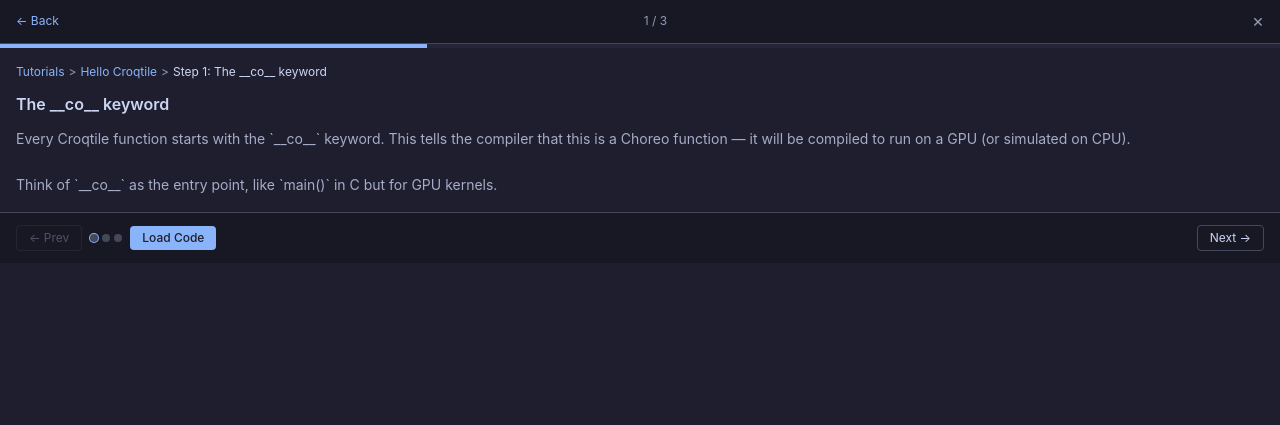
it: TutorialPanel › breadcrumb tutorial title navigates to step 1
Click the button "Next →": (1230,238) x1=1197 y1=225 x2=1264 y2=251
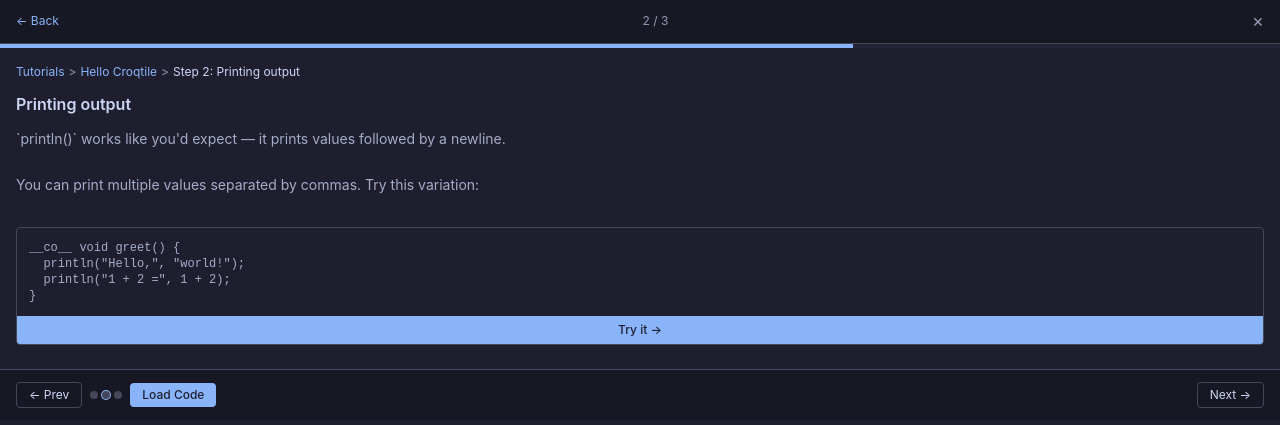
Click the button "Hello Croqtile": (119,72) x1=80 y1=64 x2=157 y2=80
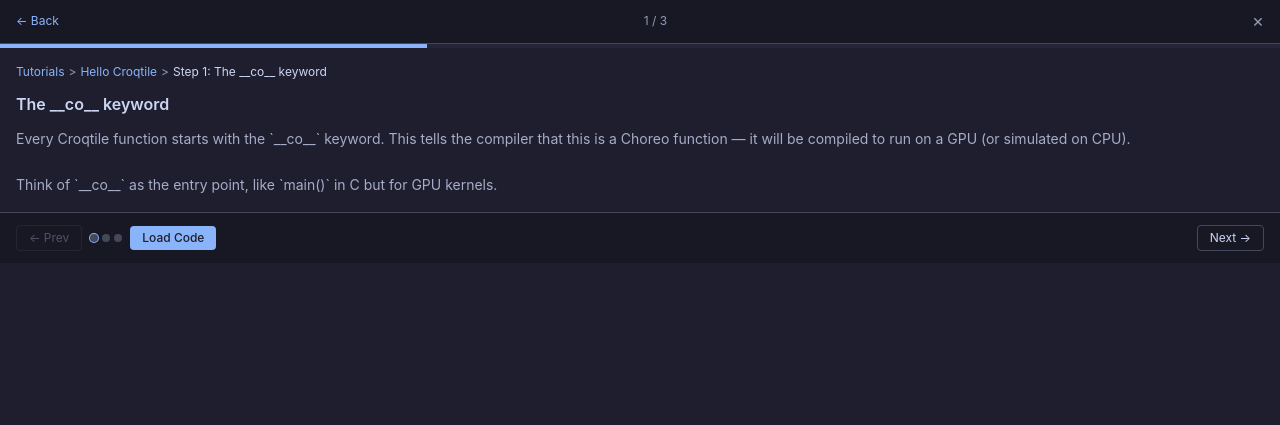
Now the navigation bar with test id "tutorial-breadcrumb" shows "Step 1: The __co__ keyword", box x1=16 y1=64 x2=327 y2=80
